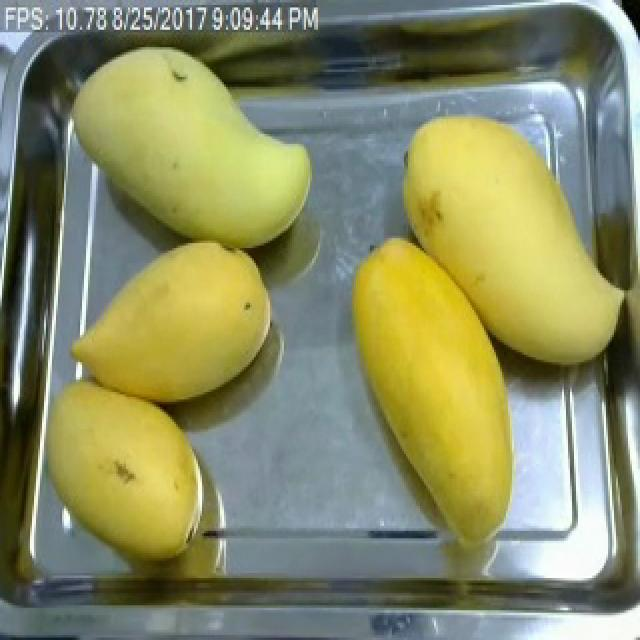fruit: (384, 90, 636, 380), (336, 226, 526, 553), (62, 37, 322, 258), (60, 231, 284, 414), (38, 365, 212, 573)
